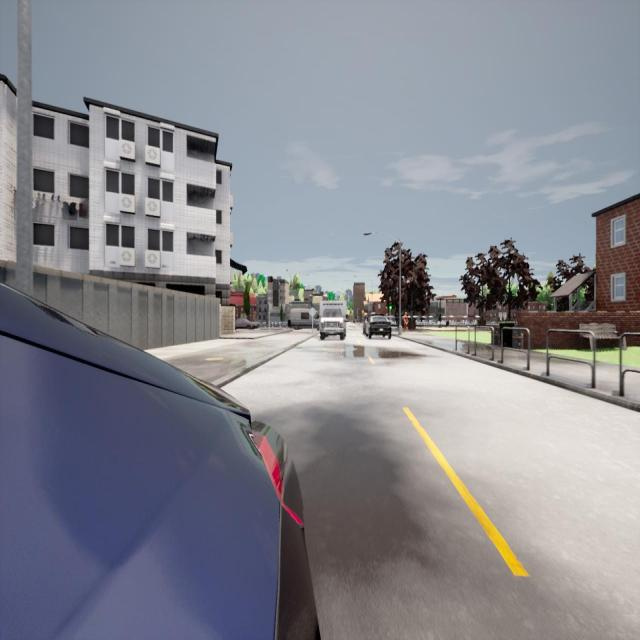Pedestrian: (402, 310, 409, 333)
Traffic_Signs: (309, 307, 316, 317)
Vehicle: (0, 283, 318, 637), (316, 300, 350, 341), (363, 314, 392, 340), (288, 308, 318, 329), (235, 318, 260, 330)
traffic_light: (389, 300, 392, 310)
